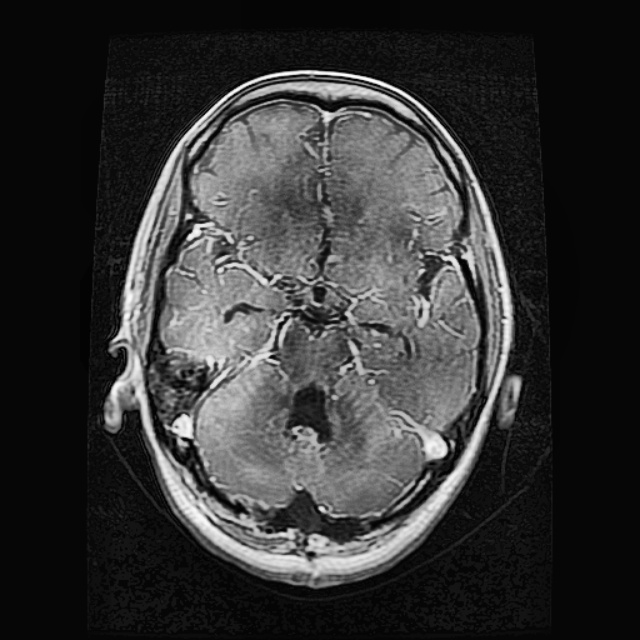Glioma: (280, 380, 335, 450)
